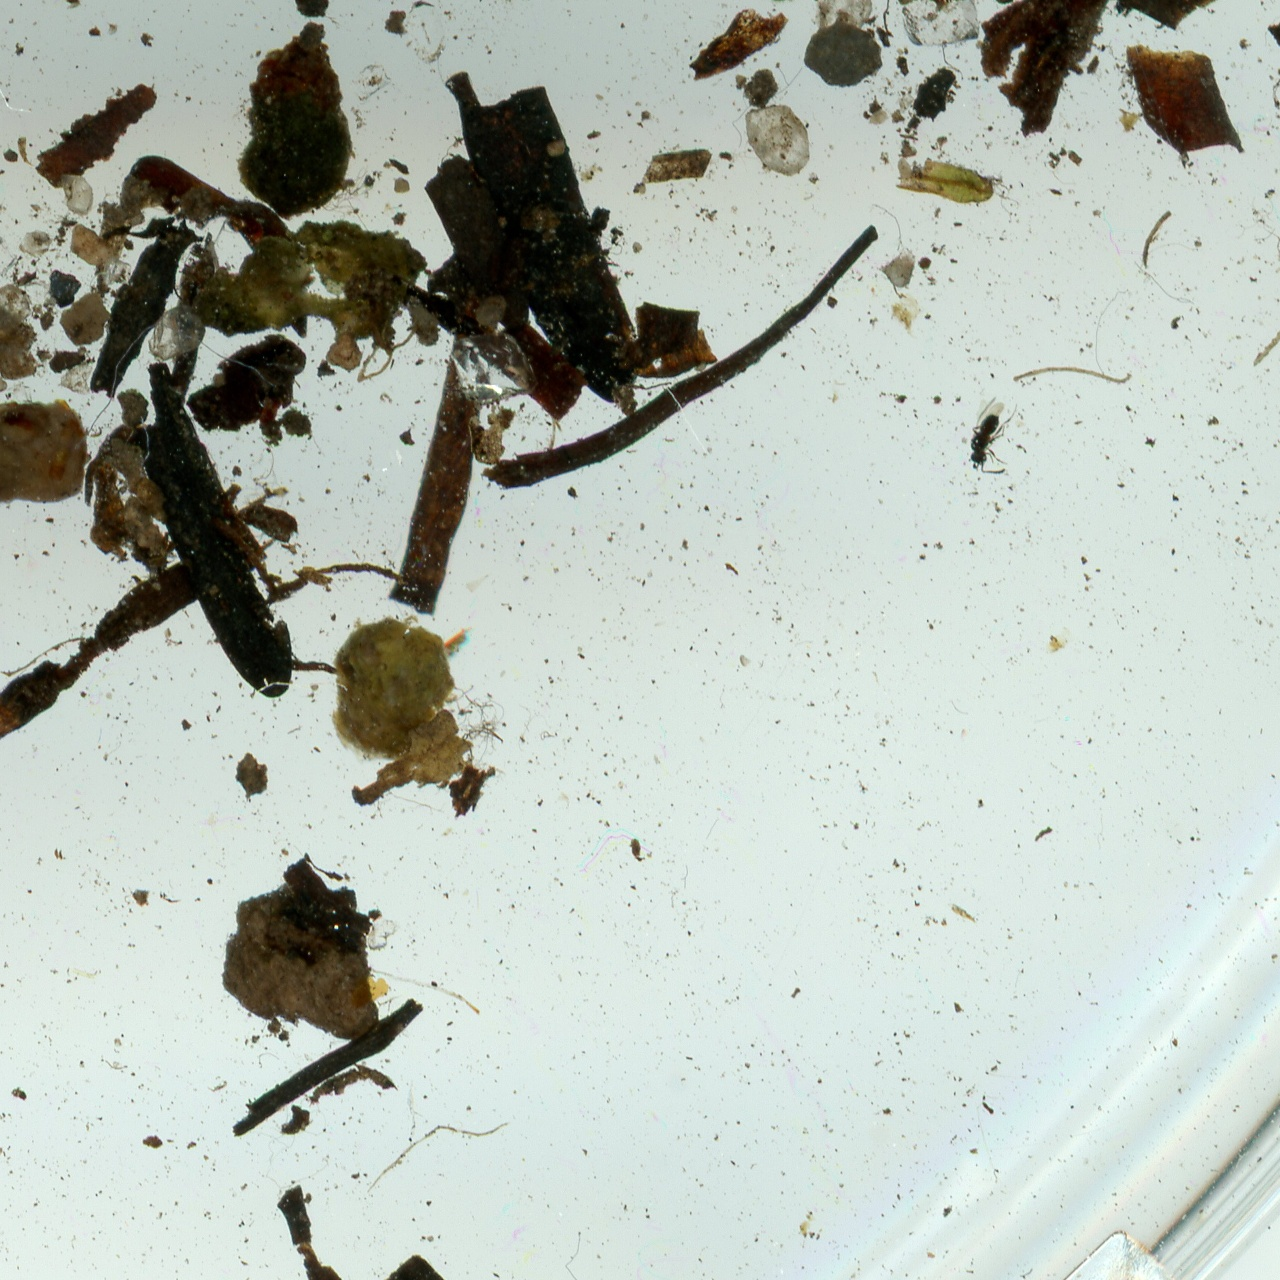arthropod: (967, 396, 1017, 475), (205, 1077, 231, 1094)
